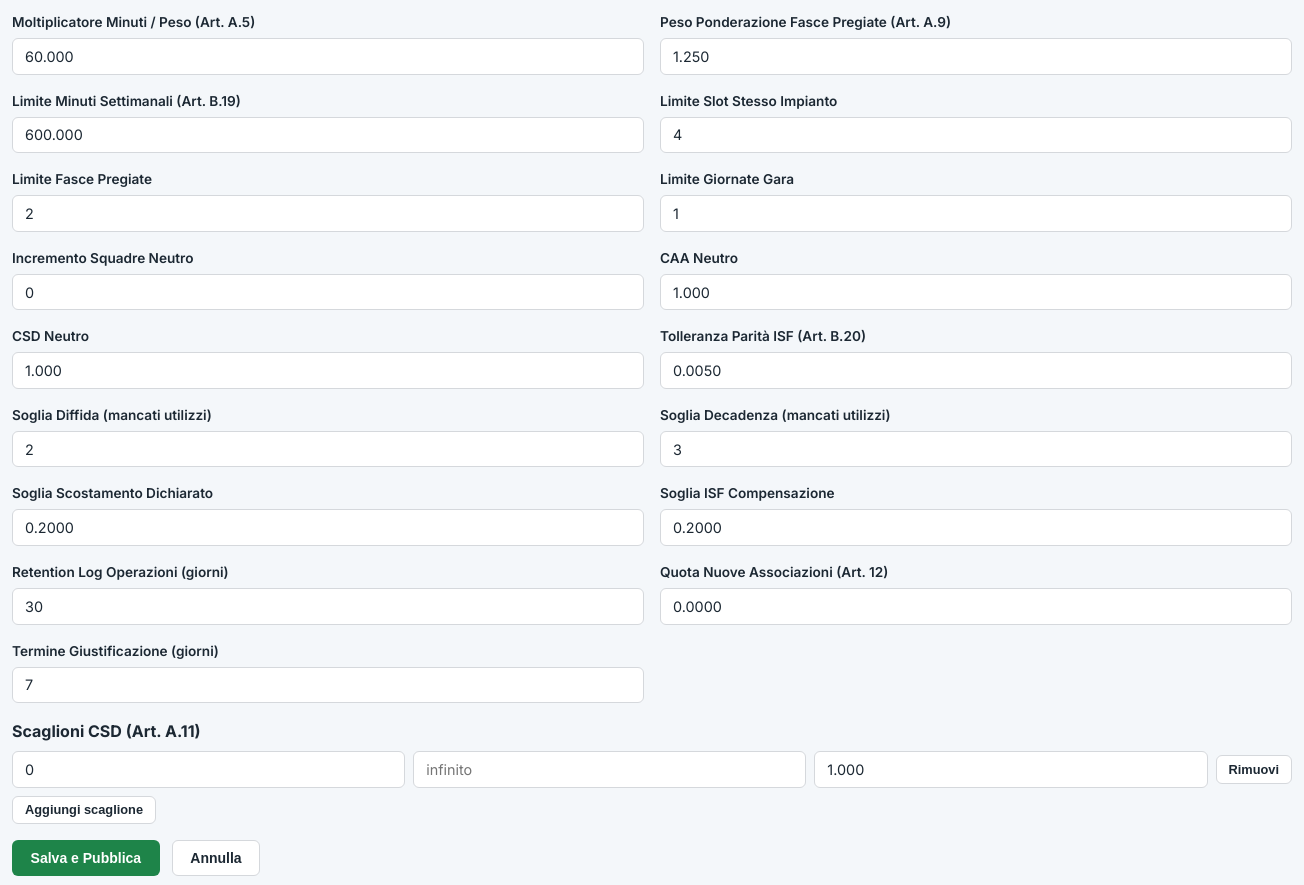
Test: VersioneParametricaForm › permette di aggiungere e rimuovere uno scaglione CSD
Expected: the number of fields named "coefficiente scaglione" is 1, [814, 751, 1208, 788]
Click the button "Aggiungi scaglione".
click(84, 810)  # box [12, 796, 156, 824]
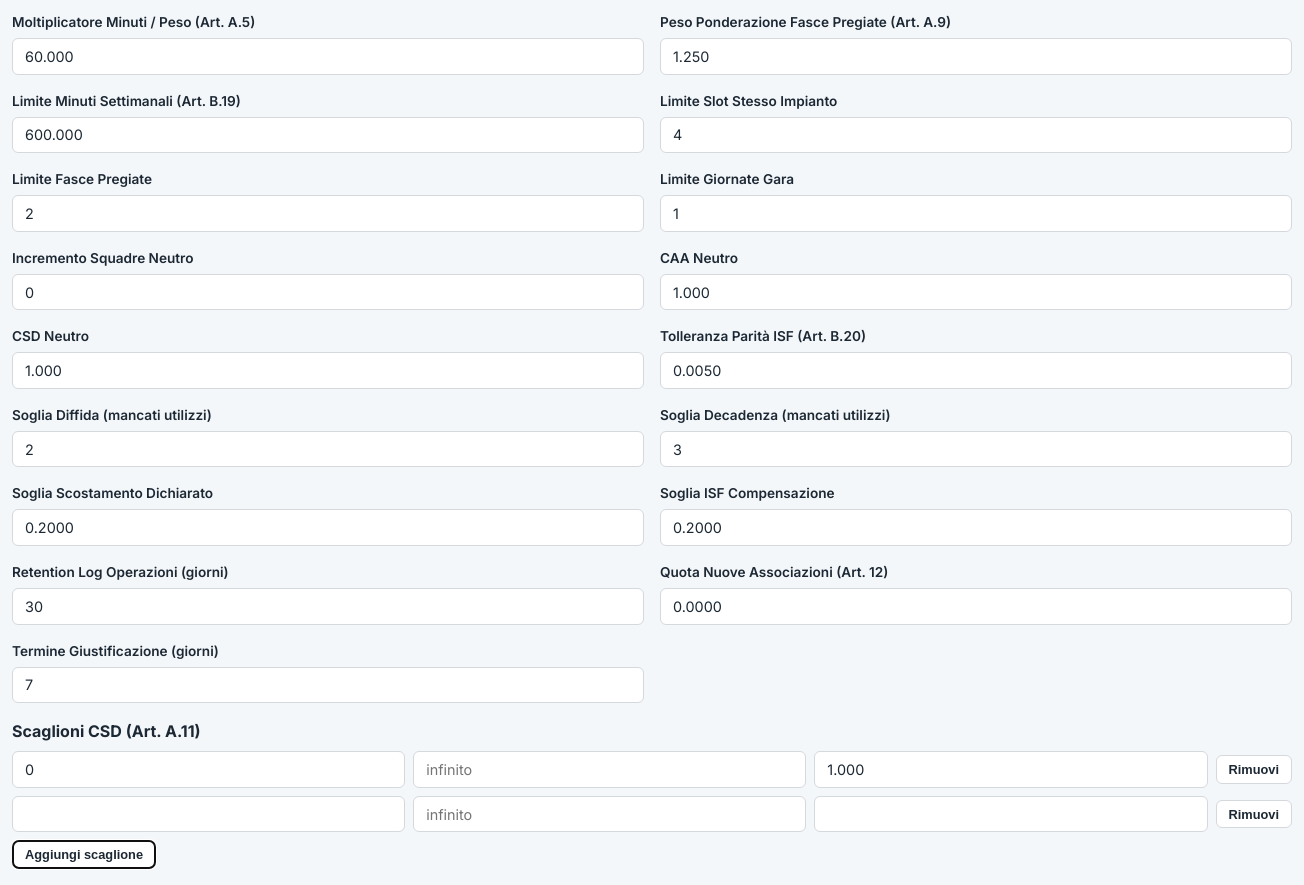
Now the number of fields named "coefficiente scaglione" is 2, box [814, 751, 1208, 788]; [814, 796, 1208, 832]
Click the button with aria-label "rimuovi scaglione".
click(1254, 770)  # box [1216, 755, 1292, 784]
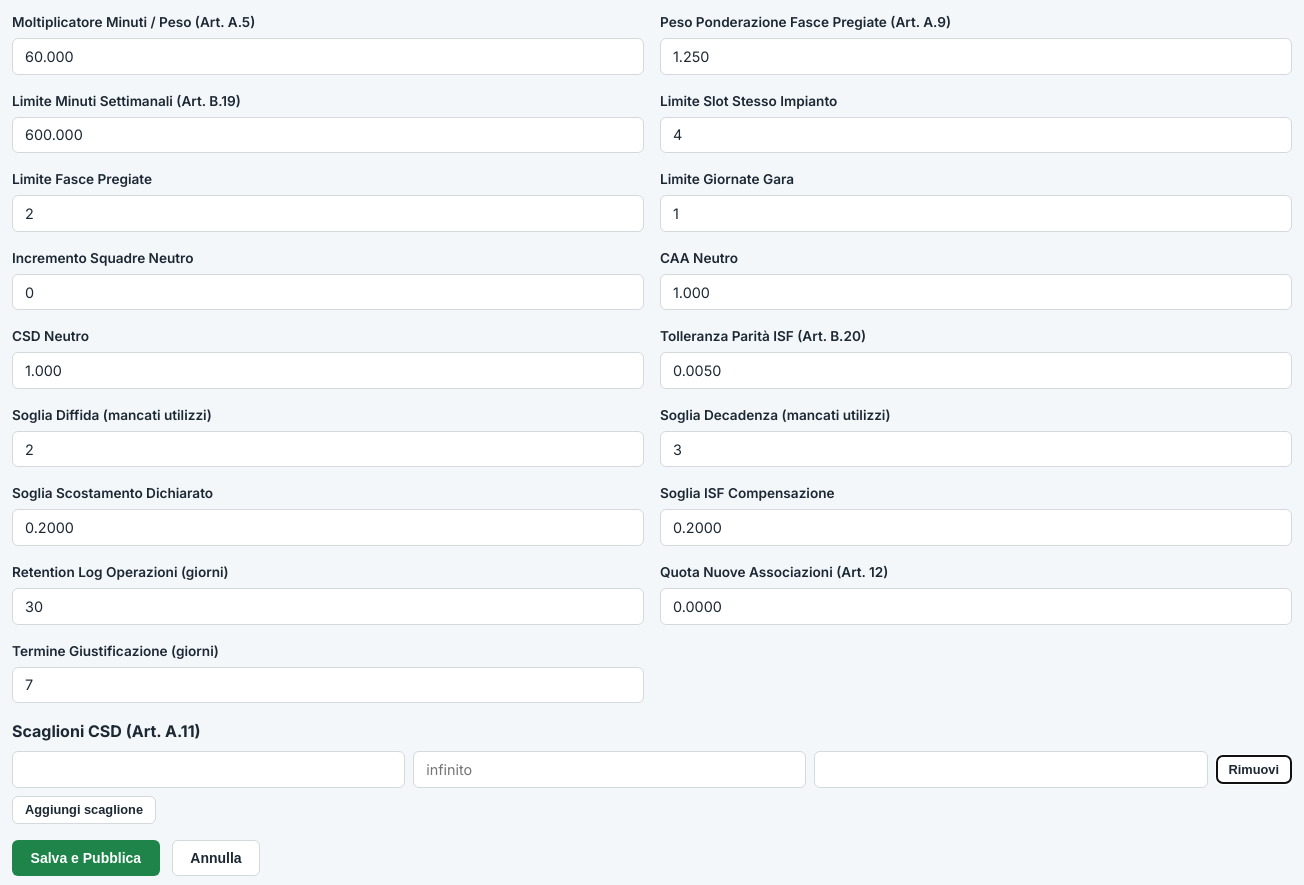
Now the number of fields named "coefficiente scaglione" is 1, box [814, 751, 1208, 788]
